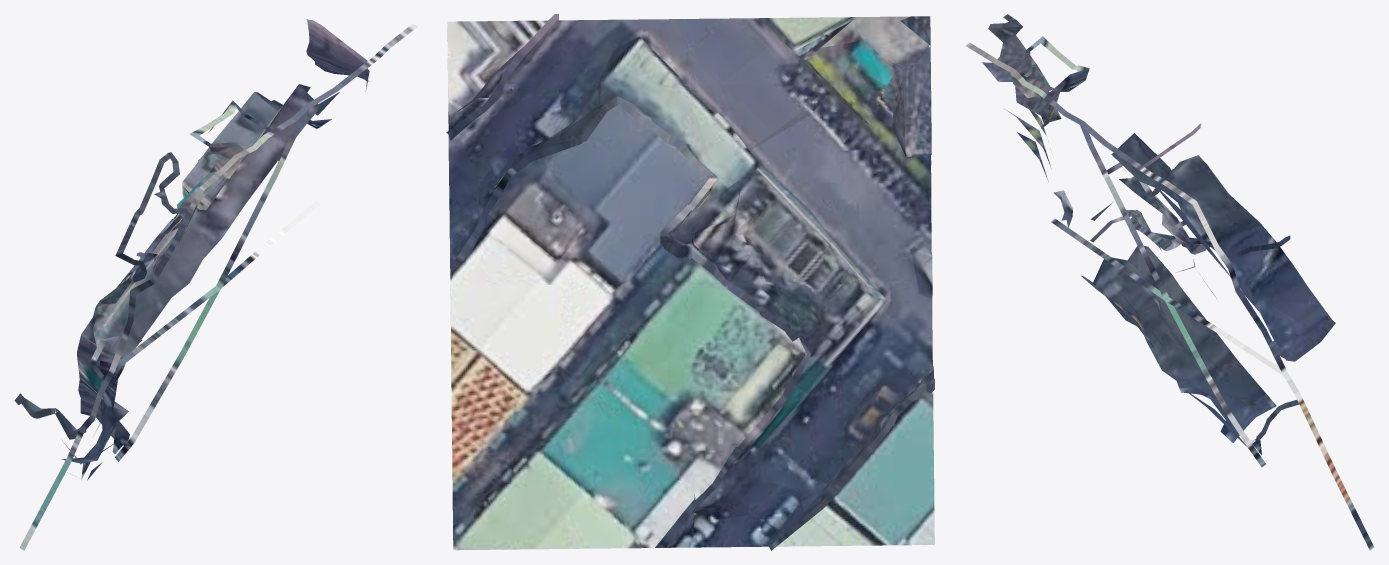
The picture shows the model from 3 angles, left to right: view 1: azimuth 30°, elevation 25°; view 2: azimuth 150°, elevation 25°; view 3: azimuth 270°, elevation 25°; orthographic projection. The views are drawn at different scales.
Bounding box in the file's own units: 38.42 × 37.51 × 32.42.
2 materials, 2 textured.
